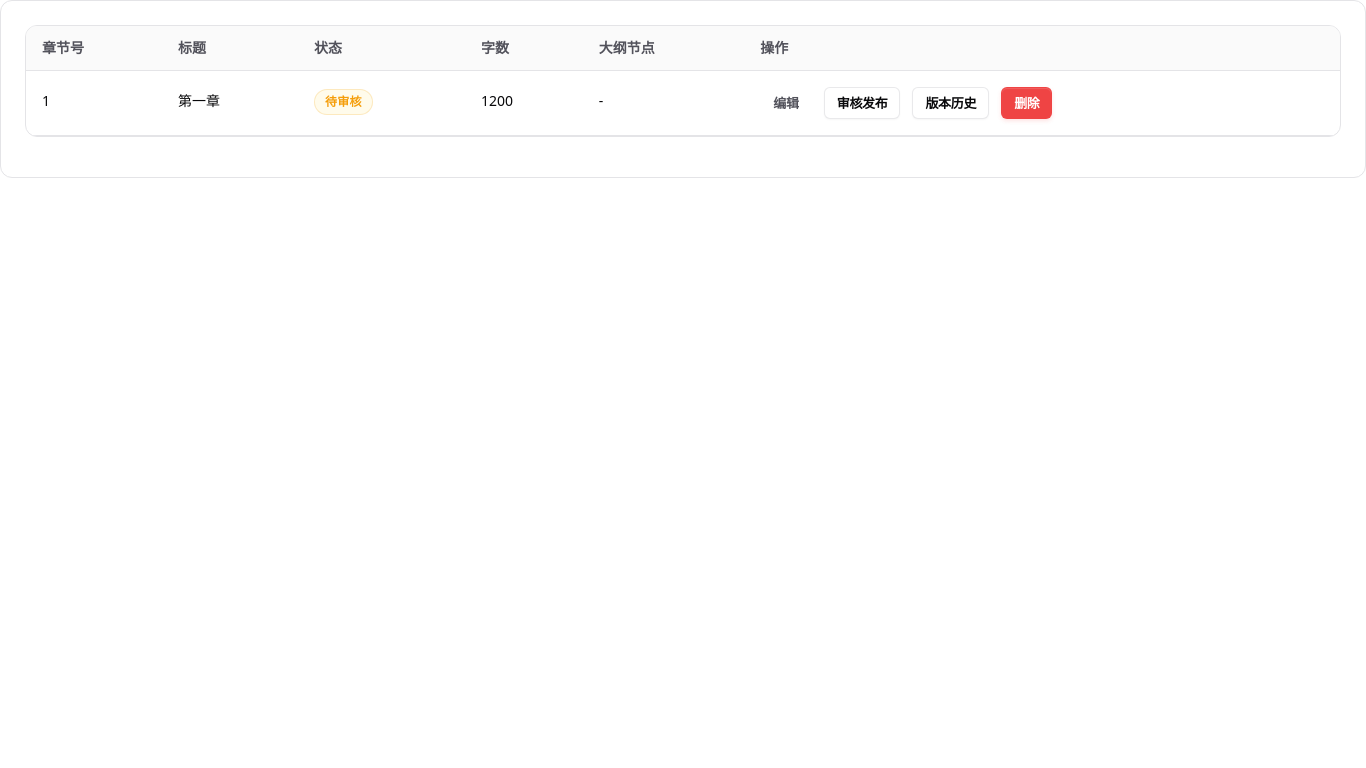
Scenario: ChaptersListingSection › asks for confirmation before publishing a chapter
Click the button "审核发布" at (862, 103), box top-left (824, 87), bottom-right (900, 119)
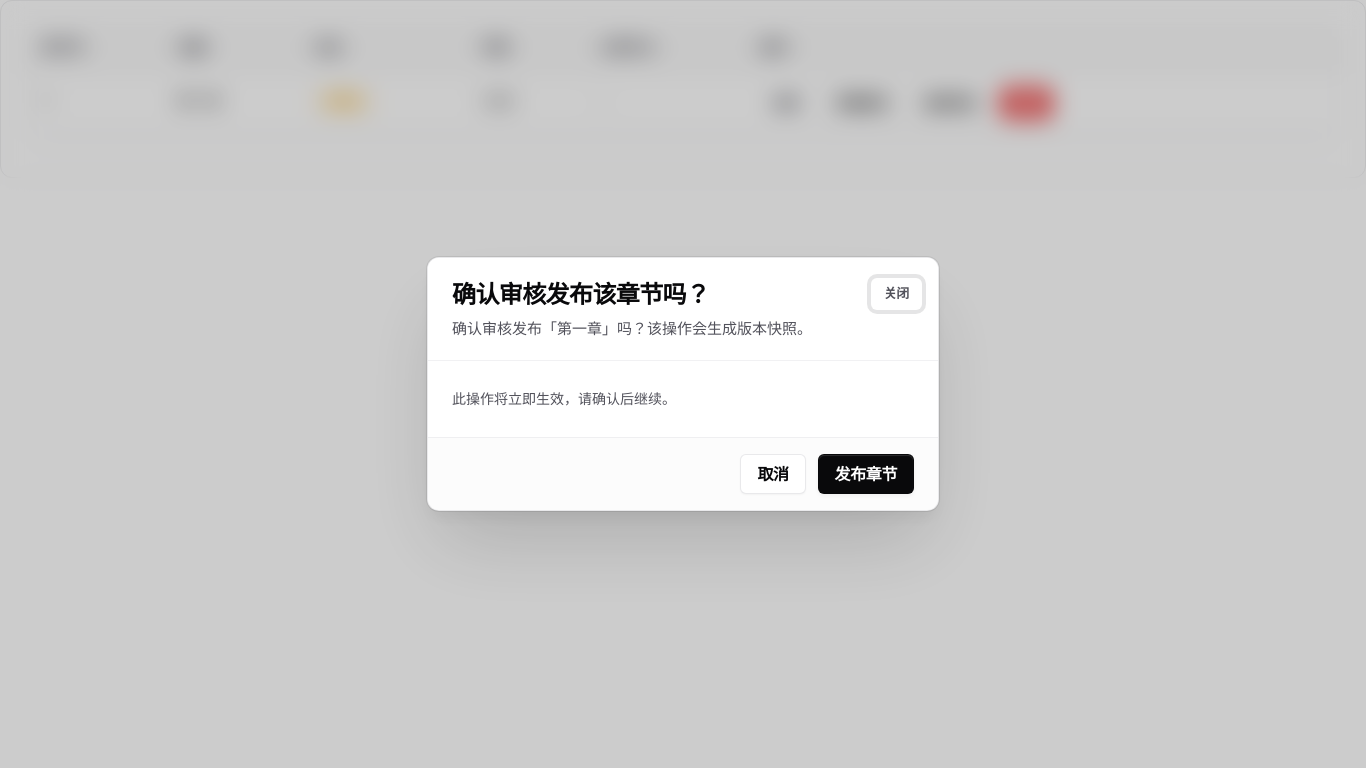
Now the dialog "确认审核发布该章节吗？" is shown, box top-left (427, 257), bottom-right (939, 511)
